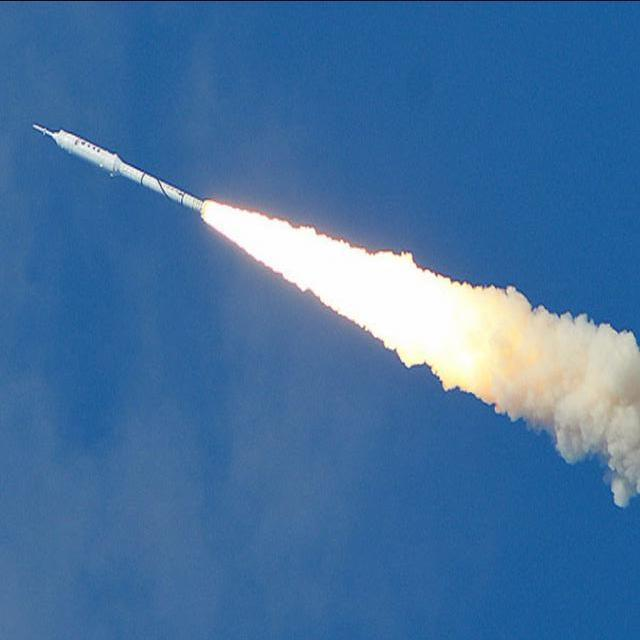missile: (34, 123, 208, 216)
